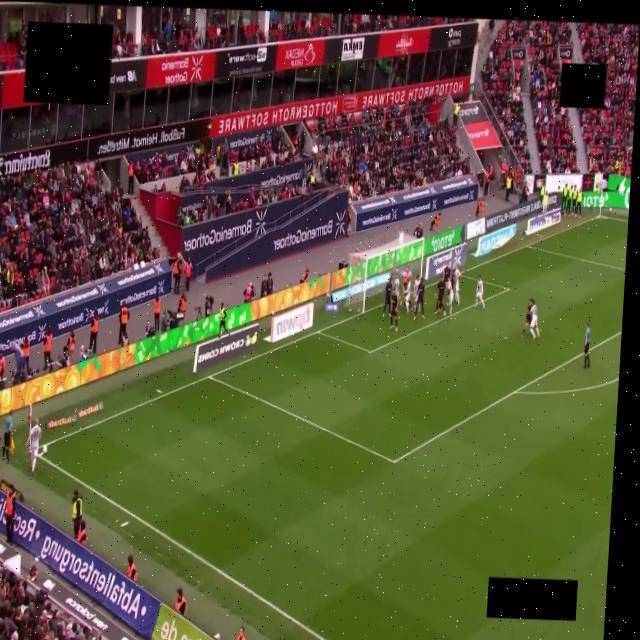ball: (42, 446, 47, 454)
player: (27, 419, 41, 473), (413, 278, 424, 320), (388, 290, 398, 331), (521, 300, 532, 337), (382, 277, 392, 317), (434, 277, 444, 314), (530, 300, 539, 339), (451, 266, 460, 305), (475, 274, 484, 308), (403, 275, 411, 313), (445, 280, 453, 314), (412, 275, 419, 306), (402, 267, 411, 286), (393, 270, 398, 296), (443, 264, 450, 281)
referee: (583, 323, 590, 368)
